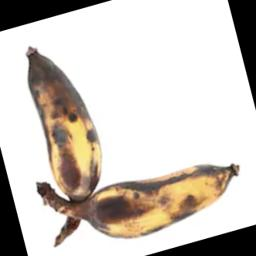Banana Rotten: (11, 41, 106, 207), (85, 172, 246, 238)
